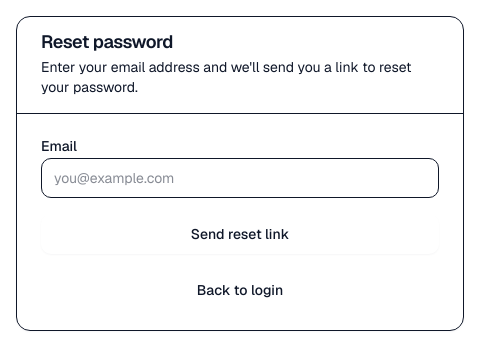
Scenario: ResetPasswordPage › should send reset link successfully
Type "reset@example.com" into the field labelled "Email" at (240, 178), box top-left (41, 158), bottom-right (439, 198)
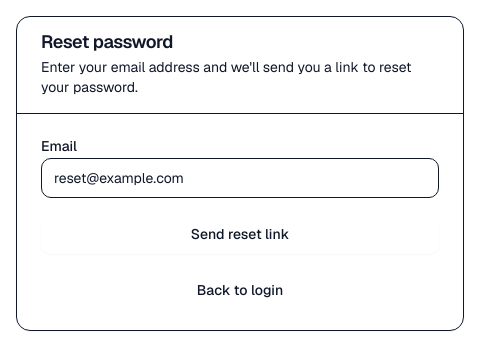
Submit the form from the button "Send reset link", box top-left (41, 214), bottom-right (439, 254)
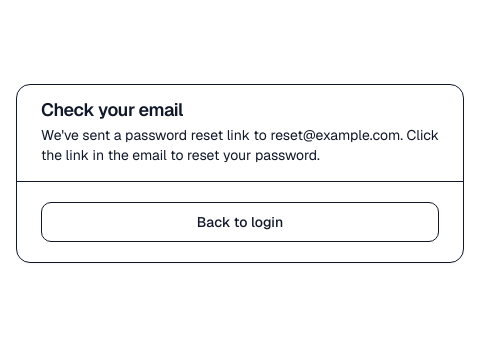
Expected: the text "We've sent a password reset link to reset@example.com. Click the link in the email to reset your password." is shown, top-left (41, 124), bottom-right (439, 164)
